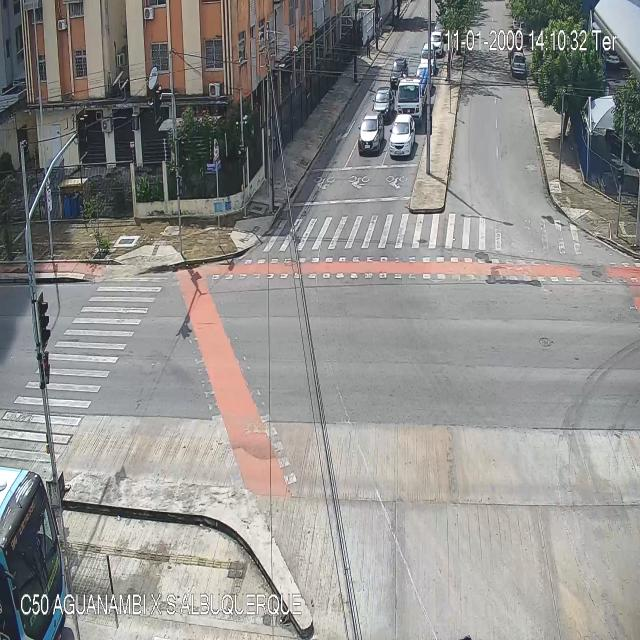Bus: (0, 466, 66, 640)
Car: (389, 112, 417, 160), (358, 116, 382, 153), (371, 86, 395, 120), (390, 59, 406, 90), (511, 52, 526, 78), (420, 41, 434, 68), (432, 34, 444, 58)
Truck: (398, 70, 431, 124)
